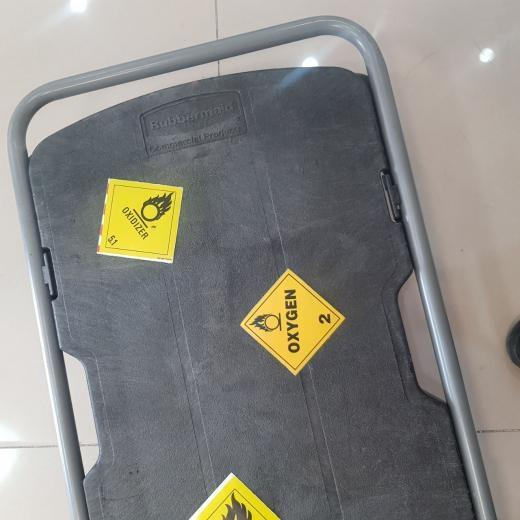oxidizer: (242, 269, 346, 378), (95, 179, 185, 259)
